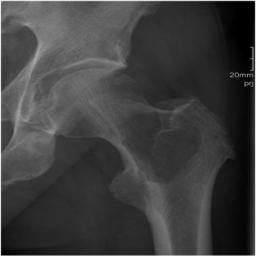cancer: (119, 112, 203, 184)
